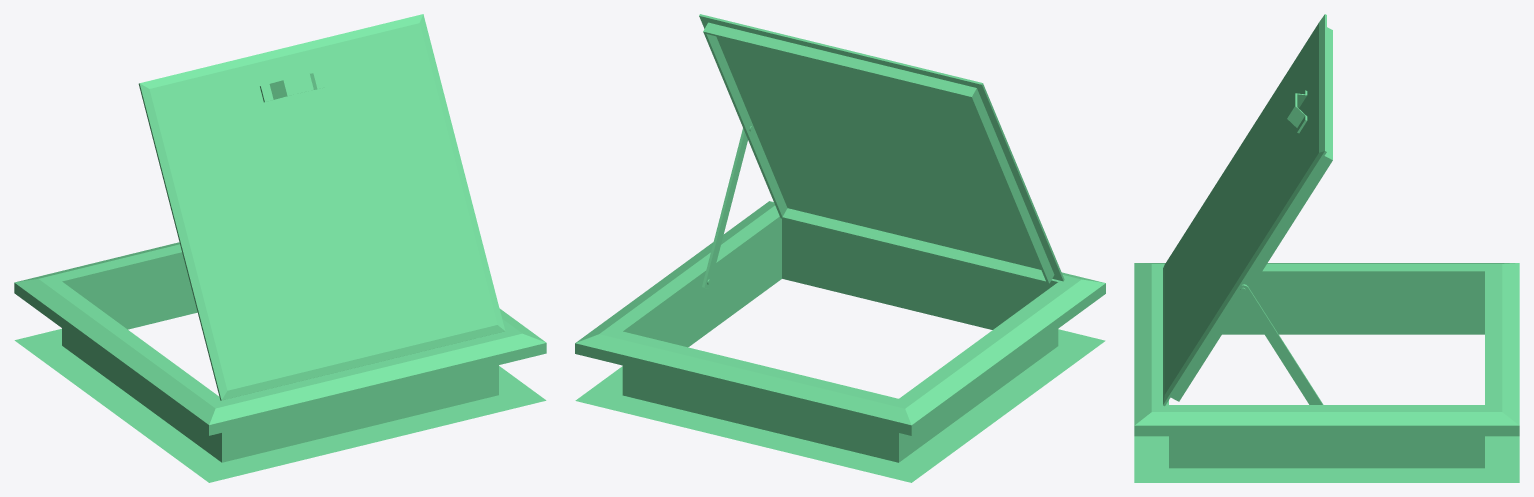
The model's file is hatch_opened.fbx.
The picture shows the model from 3 angles, left to right: view 1: azimuth 30°, elevation 25°; view 2: azimuth 150°, elevation 25°; view 3: azimuth 270°, elevation 25°; orthographic projection.
Parts seen in each view (by area): view 1: luk_opened; view 2: luk_opened; view 3: luk_opened.
Part boxes in pixels (box(x1,y1,x2,y2)): luk_opened: box(14, 14, 546, 482); luk_opened: box(575, 14, 1105, 482); luk_opened: box(1134, 14, 1519, 482).
Bounding box in the file's own units: 165 × 151 × 165.
